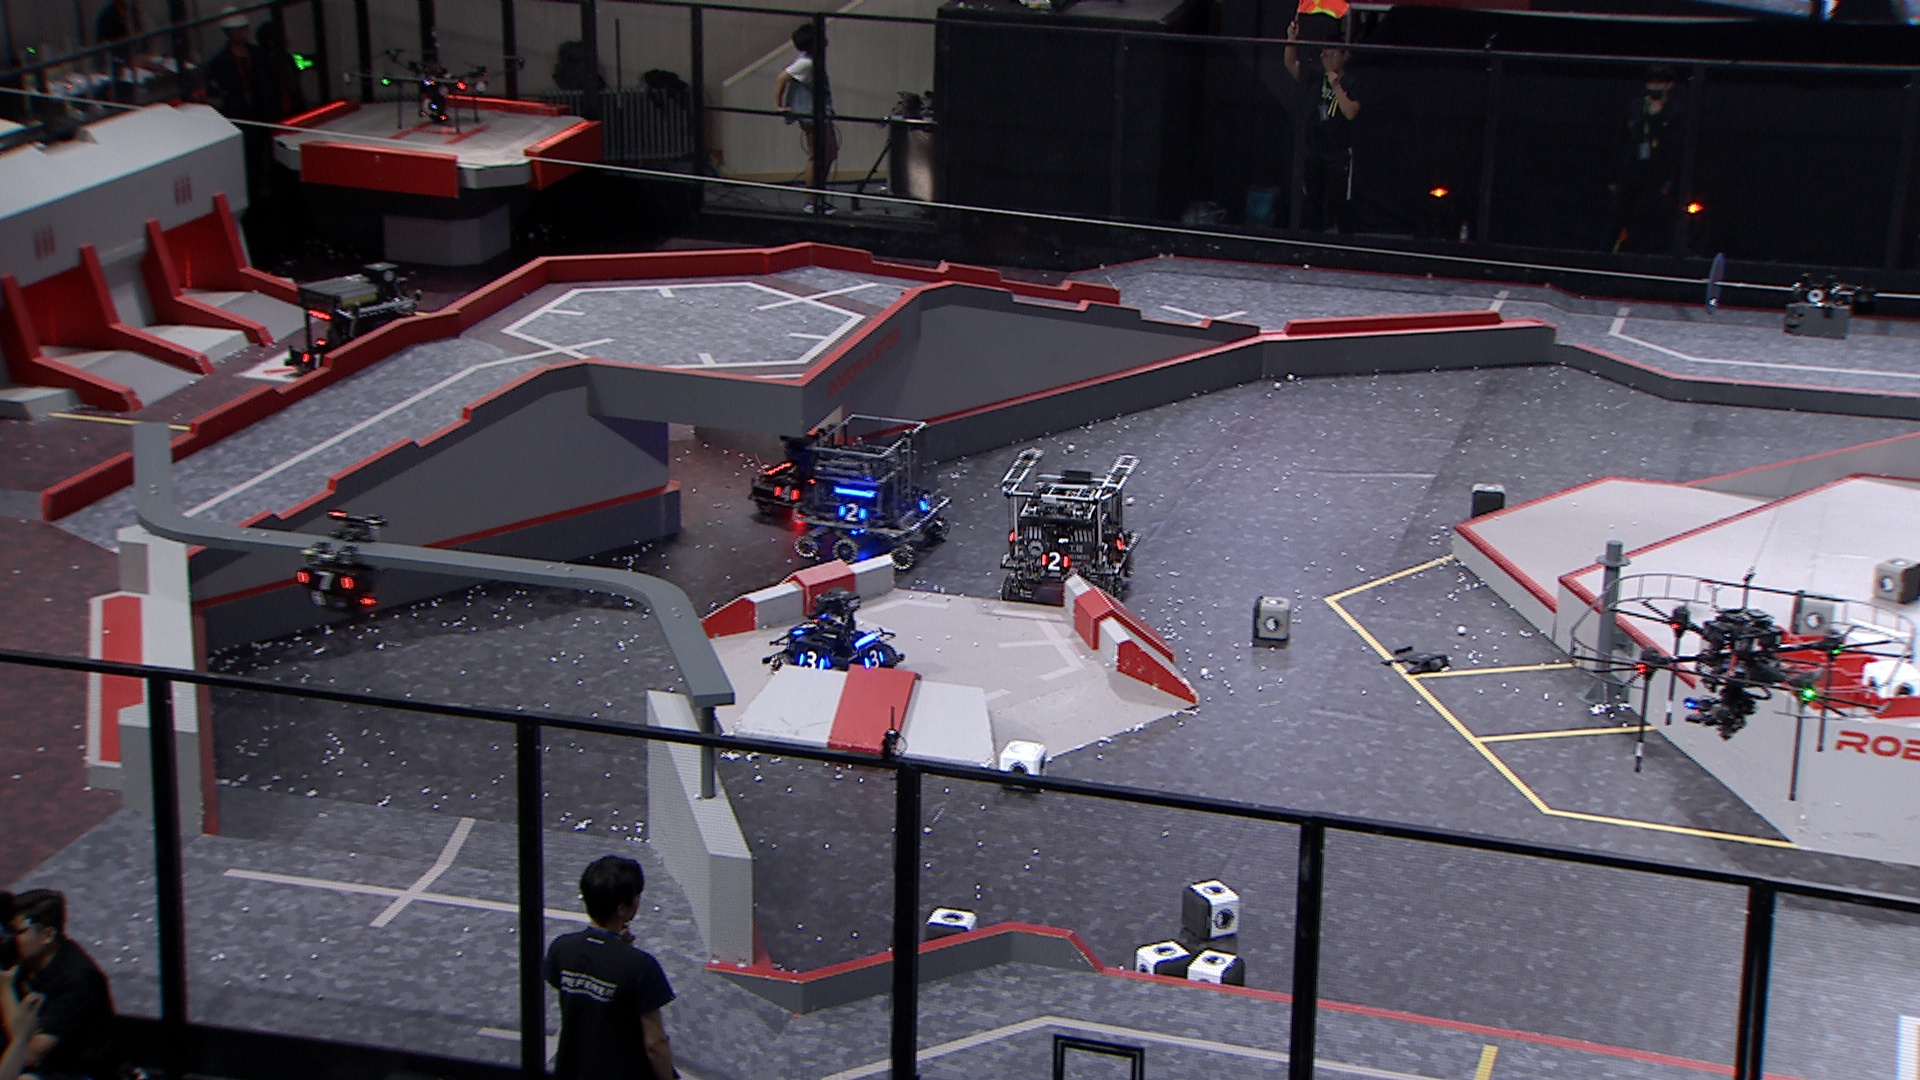armor: (295, 568, 356, 593), (1040, 551, 1073, 574), (795, 650, 827, 671), (839, 501, 868, 524), (770, 484, 800, 504), (297, 352, 327, 372), (861, 647, 885, 670), (790, 621, 818, 637), (916, 491, 934, 514), (1114, 527, 1129, 553)
car: (787, 415, 957, 571), (997, 443, 1141, 599), (284, 272, 423, 392), (765, 589, 903, 683), (745, 429, 845, 518)
watcher: (291, 510, 386, 616)
